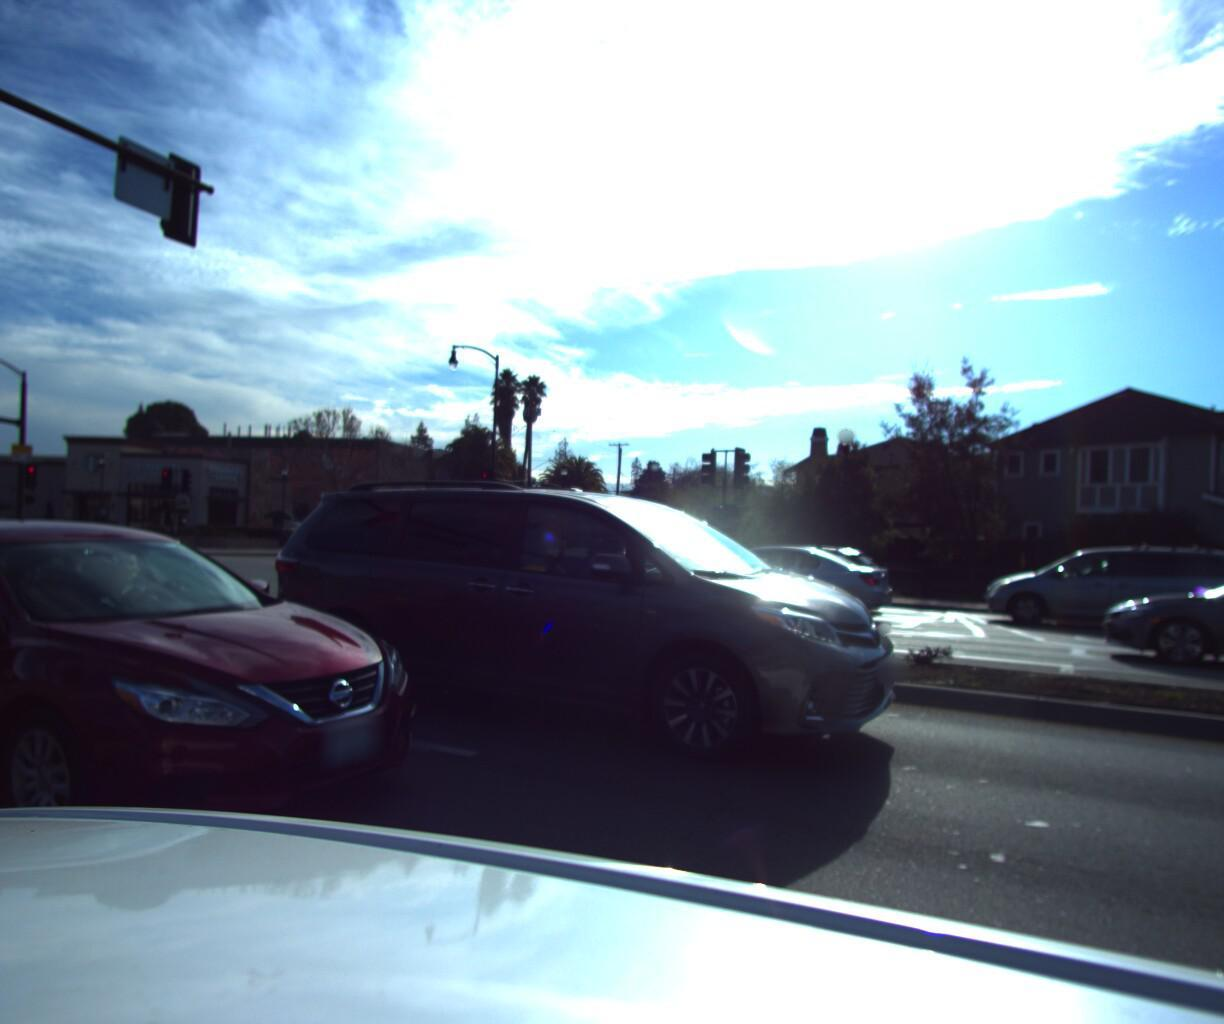car: (0, 491, 513, 960), (263, 467, 939, 800), (495, 522, 783, 643), (969, 533, 1224, 646), (629, 533, 901, 630), (1077, 551, 1224, 711), (691, 537, 889, 616), (0, 506, 89, 565)
